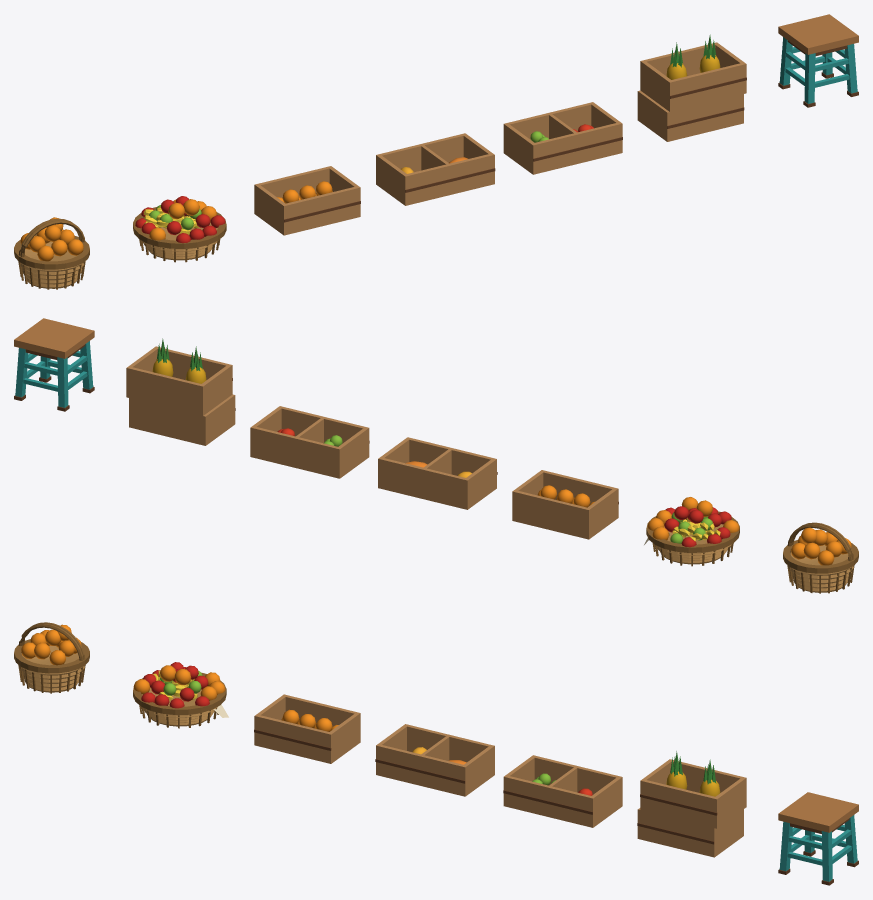
Rendered from decoracion-puestos.glb.
3 renders of one model, top to bottom at view 1: azimuth 30°, elevation 25°; view 2: azimuth 150°, elevation 25°; view 3: azimuth 330°, elevation 25°, orthographic.
Parts seen in each view (by area): view 1: pila_cajas_pinas_MaderaCajon, caja_mangos_papayas_MaderaCajon, caja_limas_tomates_MaderaCajon, caja_naranjas_MaderaCajon, silla_banquito_SillaTurquesa, silla_banquito_AsientoMadera, canasta_naranjas_MimbreOscuro, canasta_naranjas_FrutaNaranja, canasta_mixta_MimbreOscuro, canasta_mixta_FrutaManzana, canasta_naranjas_Mimbre, canasta_mixta_FrutaNaranja (+4 smaller); view 2: pila_cajas_pinas_MaderaCajon, caja_mangos_papayas_MaderaCajon, caja_limas_tomates_MaderaCajon, caja_naranjas_MaderaCajon, silla_banquito_SillaTurquesa, silla_banquito_AsientoMadera, canasta_naranjas_MimbreOscuro, canasta_naranjas_FrutaNaranja, canasta_mixta_MimbreOscuro, canasta_mixta_FrutaManzana, canasta_naranjas_Mimbre, canasta_mixta_FrutaNaranja (+3 smaller); view 3: pila_cajas_pinas_MaderaCajon, caja_mangos_papayas_MaderaCajon, caja_limas_tomates_MaderaCajon, caja_naranjas_MaderaCajon, silla_banquito_SillaTurquesa, silla_banquito_AsientoMadera, canasta_naranjas_MimbreOscuro, canasta_mixta_FrutaManzana, canasta_naranjas_FrutaNaranja, canasta_mixta_MimbreOscuro, canasta_naranjas_Mimbre, canasta_mixta_FrutaNaranja (+4 smaller).
Boxes of the visible parts, <box> form: pila_cajas_pinas_MaderaCajon: <box>637,42,746,141</box>; caja_mangos_papayas_MaderaCajon: <box>376,133,494,205</box>; caja_limas_tomates_MaderaCajon: <box>503,102,622,174</box>; caja_naranjas_MaderaCajon: <box>254,166,360,235</box>; silla_banquito_SillaTurquesa: <box>779,37,857,103</box>; silla_banquito_AsientoMadera: <box>778,14,858,54</box>; canasta_naranjas_MimbreOscuro: <box>14,218,89,289</box>; canasta_naranjas_FrutaNaranja: <box>20,217,83,261</box>; canasta_mixta_MimbreOscuro: <box>133,206,226,262</box>; canasta_mixta_FrutaManzana: <box>135,196,225,243</box>; canasta_naranjas_Mimbre: <box>18,241,85,288</box>; canasta_mixta_FrutaNaranja: <box>149,199,216,240</box>; pila_cajas_pinas_MaderaCajon: <box>126,346,235,445</box>; caja_mangos_papayas_MaderaCajon: <box>378,437,496,509</box>; caja_limas_tomates_MaderaCajon: <box>250,406,369,478</box>; caja_naranjas_MaderaCajon: <box>512,470,618,539</box>; silla_banquito_SillaTurquesa: <box>15,341,93,407</box>; silla_banquito_AsientoMadera: <box>14,318,94,358</box>; canasta_naranjas_MimbreOscuro: <box>783,522,858,593</box>; canasta_naranjas_FrutaNaranja: <box>791,527,851,565</box>; canasta_mixta_MimbreOscuro: <box>646,511,739,566</box>; canasta_mixta_FrutaManzana: <box>664,506,731,547</box>; canasta_naranjas_Mimbre: <box>788,544,853,592</box>; canasta_mixta_FrutaNaranja: <box>647,497,739,540</box>; pila_cajas_pinas_MaderaCajon: <box>637,759,746,857</box>; caja_mangos_papayas_MaderaCajon: <box>376,724,494,796</box>; caja_limas_tomates_MaderaCajon: <box>503,755,622,827</box>; caja_naranjas_MaderaCajon: <box>254,694,360,763</box>; silla_banquito_SillaTurquesa: <box>779,815,857,881</box>; silla_banquito_AsientoMadera: <box>778,792,858,832</box>; canasta_naranjas_MimbreOscuro: <box>14,622,89,693</box>; canasta_mixta_FrutaManzana: <box>141,662,209,708</box>; canasta_naranjas_FrutaNaranja: <box>21,624,81,665</box>; canasta_mixta_MimbreOscuro: <box>133,672,226,728</box>; canasta_naranjas_Mimbre: <box>19,645,84,691</box>; canasta_mixta_FrutaNaranja: <box>133,665,225,700</box>.
Bounding box in the file's own units: 6.46 × 0.626 × 0.6295.
